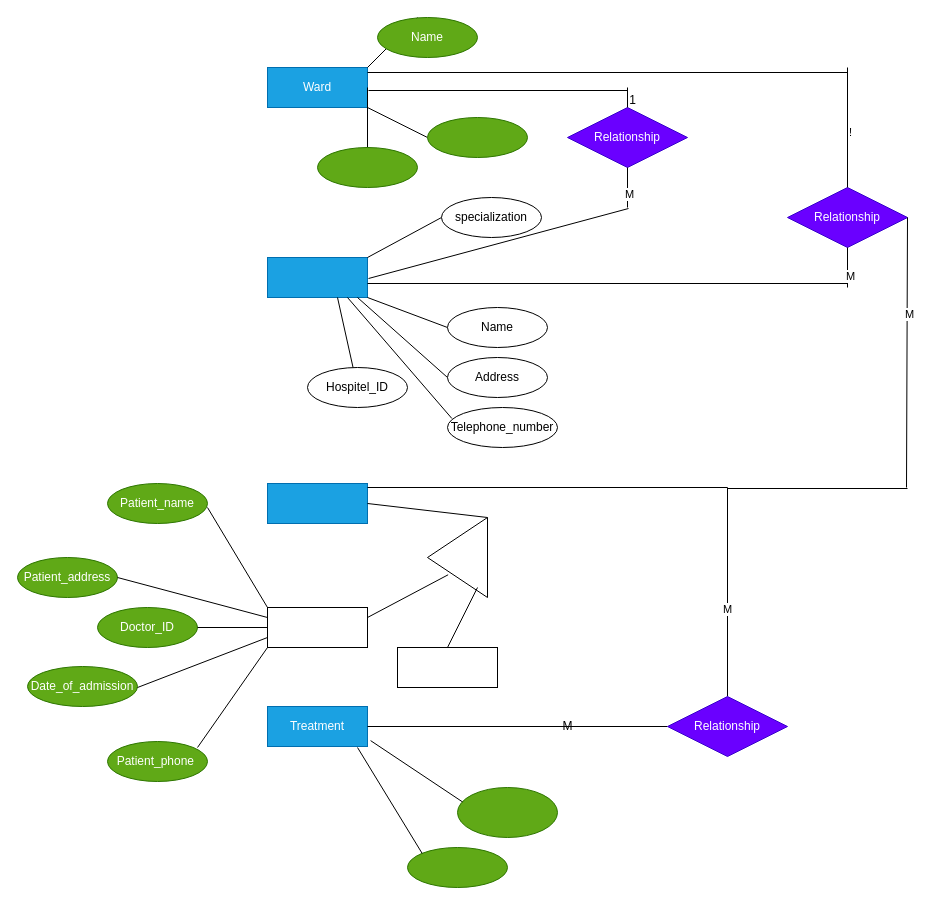
Some shapes in this 932 by 905 pixel diagram are drawn without their labels. Here are the shapes that lost their labels. From the top down, the centre of each, then its label:
point 477,137: Ward name
point 367,167: Number of Patients
point 317,277: Doctor
point 317,503: Patient
point 317,627: admimitted patient
point 447,667: Entity
point 507,812: Treatment_ d escription
point 457,867: Treatment_number
